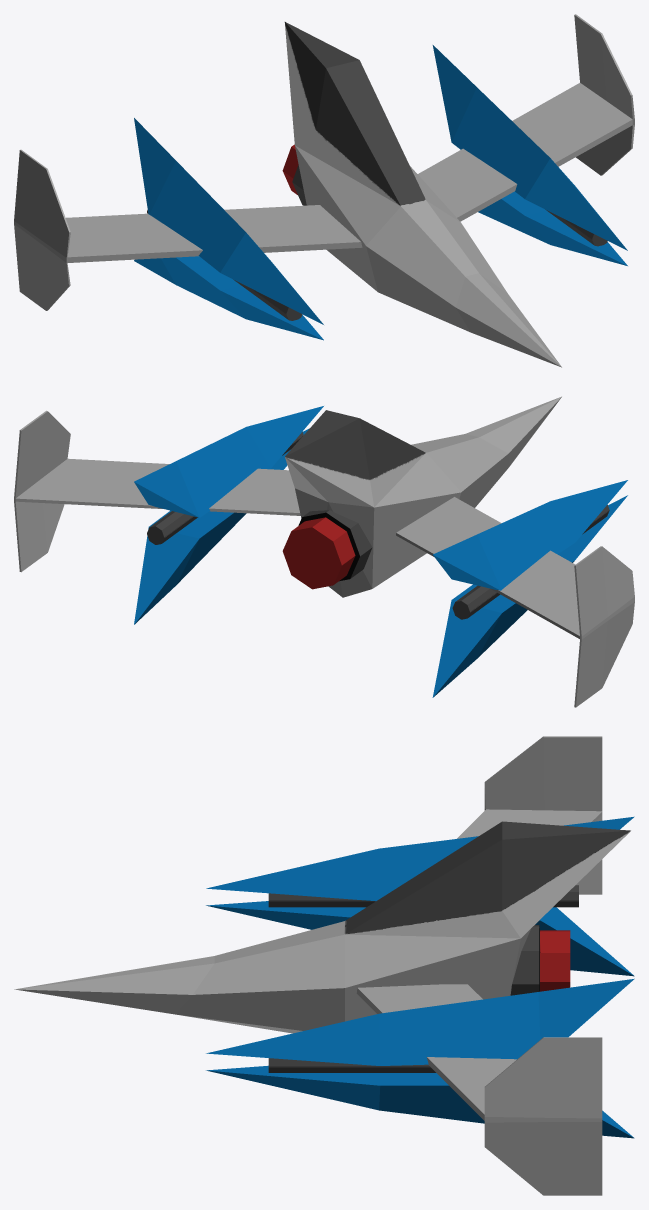
The model's file is starfox-export.fbx.
3 renders of one model, top to bottom at view 1: azimuth 30°, elevation 25°; view 2: azimuth 150°, elevation 25°; view 3: azimuth 270°, elevation 25°, orthographic. The views are drawn at different scales.
Parts seen in each view (by area): view 1: Ship; view 2: Ship; view 3: Ship.
Part boxes in pixels (bbox=[...]): Ship: bbox=[14, 14, 634, 367]; Ship: bbox=[14, 396, 634, 707]; Ship: bbox=[14, 736, 634, 1195].
Size of the model in its own units: 632 by 217 by 538.
